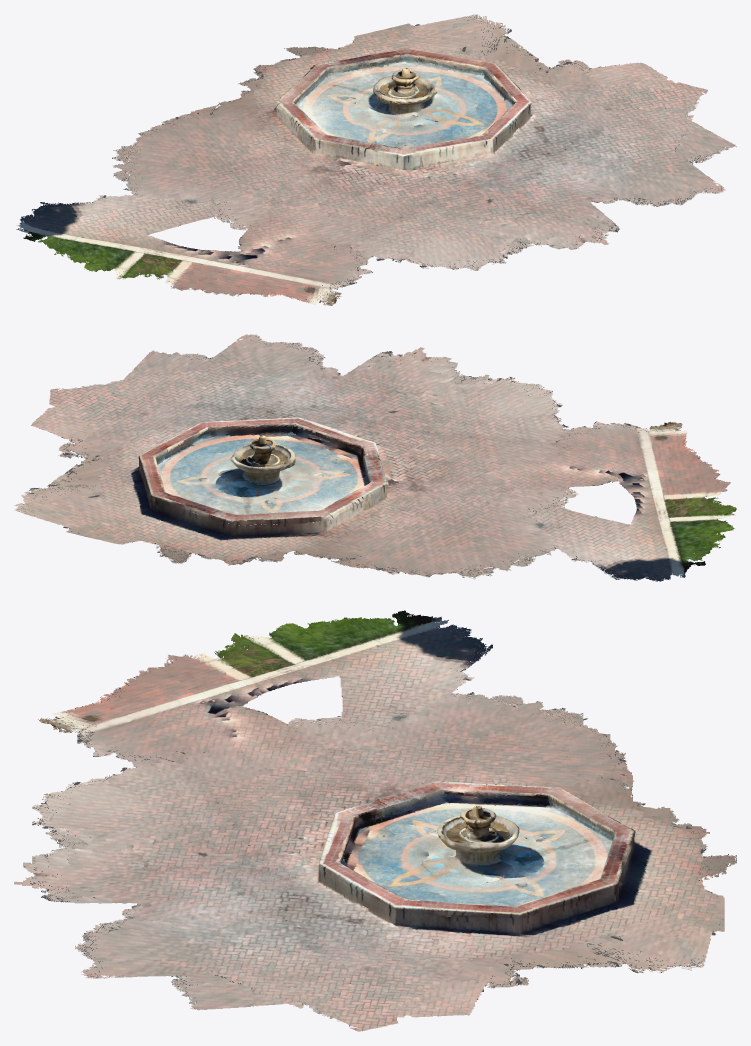
File: university-c.glb
The picture shows the model from 3 angles, top to bottom: view 1: azimuth 30°, elevation 25°; view 2: azimuth 150°, elevation 25°; view 3: azimuth 270°, elevation 25°; orthographic projection. The views are drawn at different scales.
Size of the model in its own units: 21.95 by 1.69 by 16.
1 material, 1 textured.
